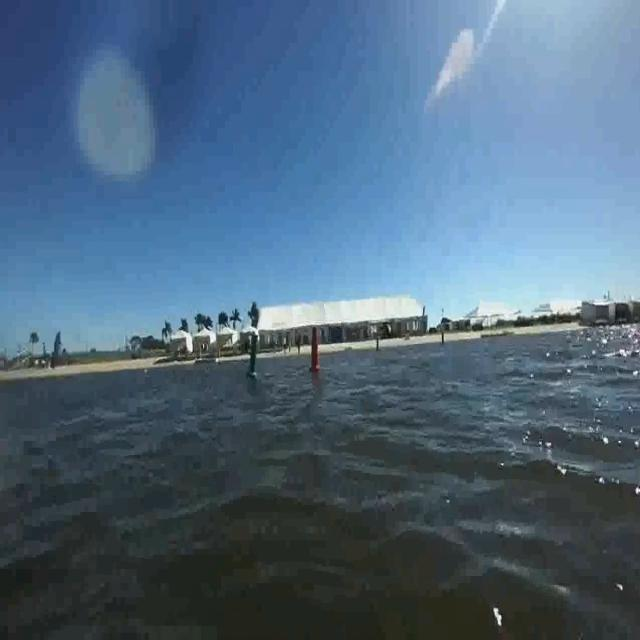green-column-buoy: (247, 332, 260, 381)
red-column-buoy: (307, 327, 321, 373)
